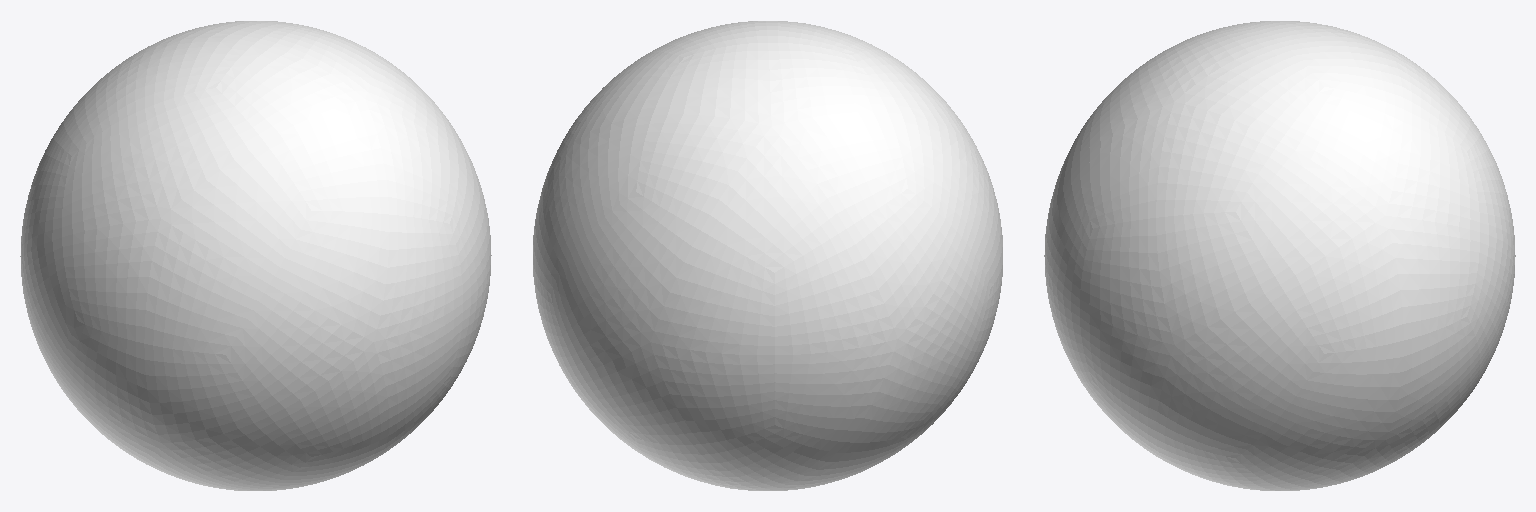
Rendered from orb_4.obj.
3 renders of one model, left to right at view 1: azimuth 30°, elevation 25°; view 2: azimuth 150°, elevation 25°; view 3: azimuth 270°, elevation 25°, orthographic.
Parts seen in each view (by area): view 1: pPlatonic1; view 2: pPlatonic1; view 3: pPlatonic1.
Part boxes in pixels (x1,y1,x2,y2): pPlatonic1: (20, 21, 491, 490); pPlatonic1: (533, 21, 1002, 490); pPlatonic1: (1044, 21, 1515, 490).
Bounding box in the file's own units: 2 × 2 × 2.